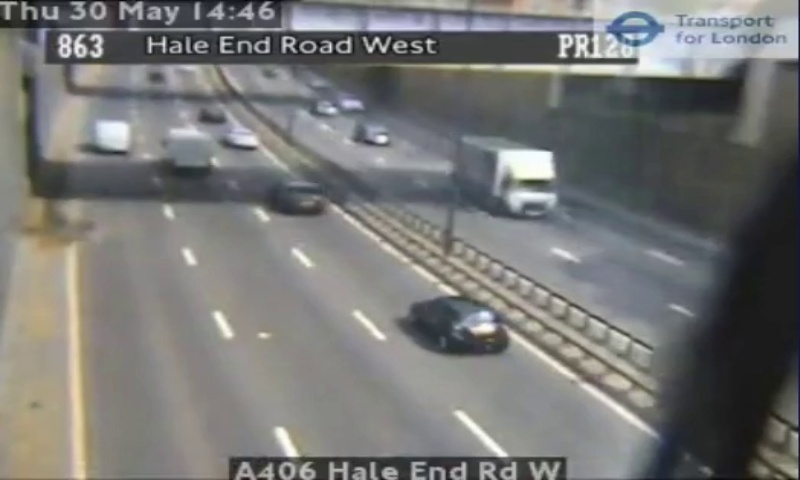car: (412, 296, 508, 353), (273, 181, 326, 214)
van: (167, 129, 210, 171)
